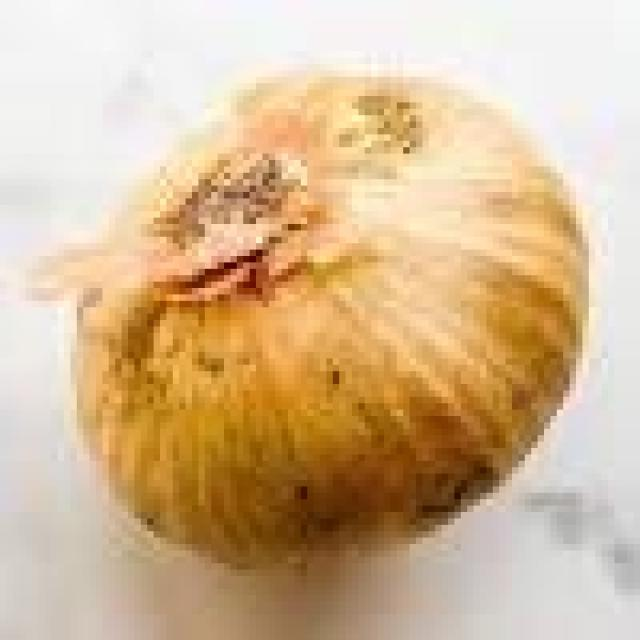Onion: (64, 64, 595, 602)
